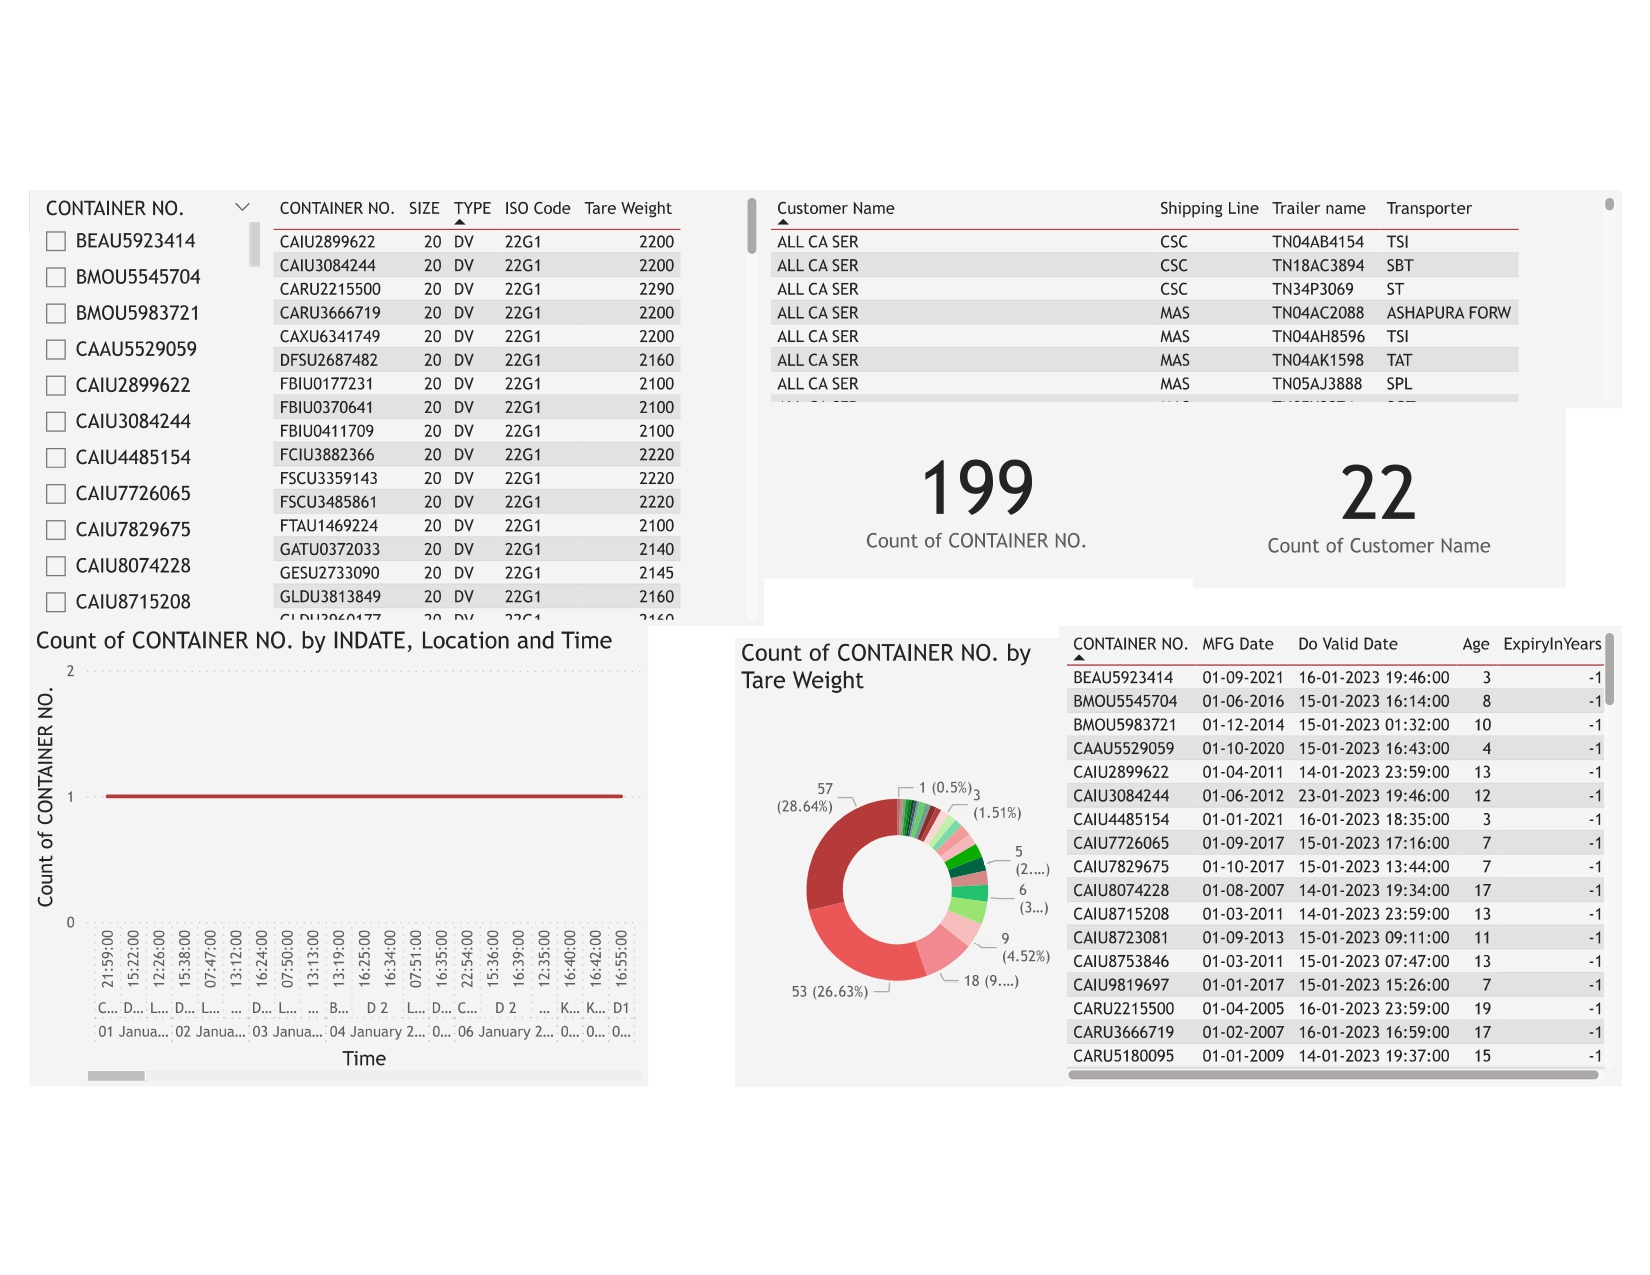

The page's visual inventory and layout, read from the dashboard file:
{"tool":"powerbi","page":{"name":"Inventory","canvas":[1280,720],"ordinal":2},"visuals":[{"type":"tableEx","fields":{"Values":["INVENTORY (2).CONTAINER NO.","INVENTORY (2).SIZE","INVENTORY (2).TYPE","INVENTORY (2).ISO Code","INVENTORY (2).Tare Weight"]},"box":[10,0,400,214],"z":0},{"type":"slicer","fields":{"Values":["INVENTORY (2).CONTAINER NO."]},"box":[450,0,190,350],"z":1000},{"type":"lineChart","fields":{"Category":["INVENTORY (2).INDATE","INVENTORY (2).Location","INVENTORY (2).Time"],"Y":["CountNonNull(INVENTORY (2).CONTAINER NO.)"]},"box":[0,350,592,332],"z":2000},{"type":"tableEx","fields":{"Values":["INVENTORY (2).Customer Name","INVENTORY (2).Shipping Line","INVENTORY (2).Trailer name","INVENTORY (2).Transporter"]},"box":[640,0,592,122],"z":3000},{"type":"tableEx","fields":{"Values":["INVENTORY (2).CONTAINER NO.","INVENTORY (2).MFG Date","INVENTORY (2).Do Valid Date","INVENTORY (2).Age","INVENTORY (2).ExpiryInYears"]},"box":[828,258,452,462],"z":4000},{"type":"donutChart","fields":{"Category":["INVENTORY (2).Tare Weight"],"Y":["CountNonNull(INVENTORY (2).CONTAINER NO.)"]},"box":[566,350,262,332],"z":5000},{"type":"card","fields":{"Values":["CountNonNull(INVENTORY (2).CONTAINER NO.)"]},"box":[620,122,346,136],"z":6000},{"type":"card","fields":{"Values":["Count(INVENTORY (2).Customer Name)"]},"box":[936,104,300,154],"z":7000}]}

Visuals, with their boxes on the page's 1280x720 design canvas (x1, y1, x2, y2). These are canvas units, not pixel positions in the 1650x1275 screenshot, which may show the page scaled, cropped or inside an application window:
tableEx - INVENTORY (2).CONTAINER NO. x INVENTORY (2).SIZE: rect(10, 0, 410, 214)
slicer - INVENTORY (2).CONTAINER NO.: rect(450, 0, 640, 350)
lineChart - INVENTORY (2).INDATE x INVENTORY (2).Location: rect(0, 350, 592, 682)
tableEx - INVENTORY (2).Customer Name x INVENTORY (2).Shipping Line: rect(640, 0, 1232, 122)
tableEx - INVENTORY (2).CONTAINER NO. x INVENTORY (2).MFG Date: rect(828, 258, 1280, 720)
donutChart - INVENTORY (2).Tare Weight x CountNonNull(INVENTORY (2).CONTAINER NO.): rect(566, 350, 828, 682)
card - CountNonNull(INVENTORY (2).CONTAINER NO.): rect(620, 122, 966, 258)
card - Count(INVENTORY (2).Customer Name): rect(936, 104, 1236, 258)
